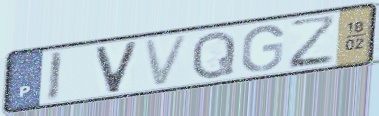G: (239, 23, 287, 73)
I: (45, 48, 66, 104)
Q: (189, 29, 238, 82)
V: (141, 31, 193, 89), (93, 38, 141, 95)
Z: (287, 12, 338, 71)
